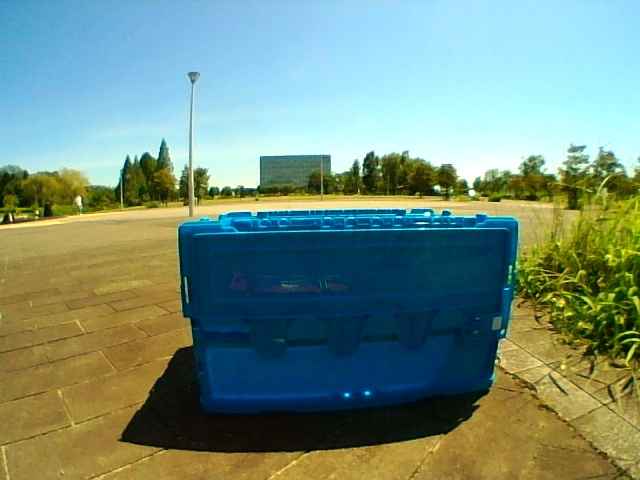blue_box: (203, 220, 493, 392)
